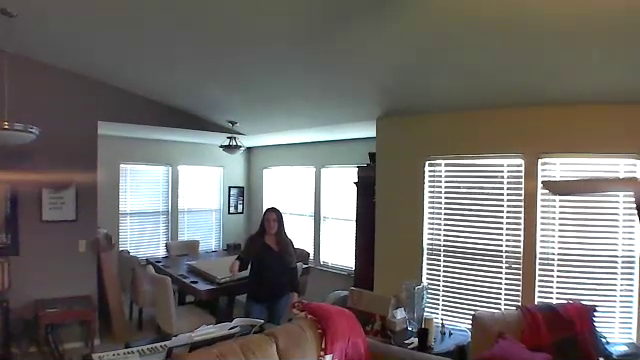down: (225, 256, 246, 286)
